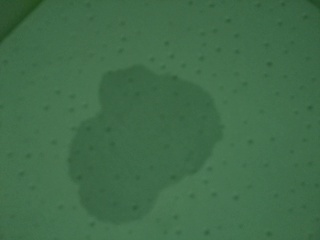Water_detected: (83, 84, 197, 205)
